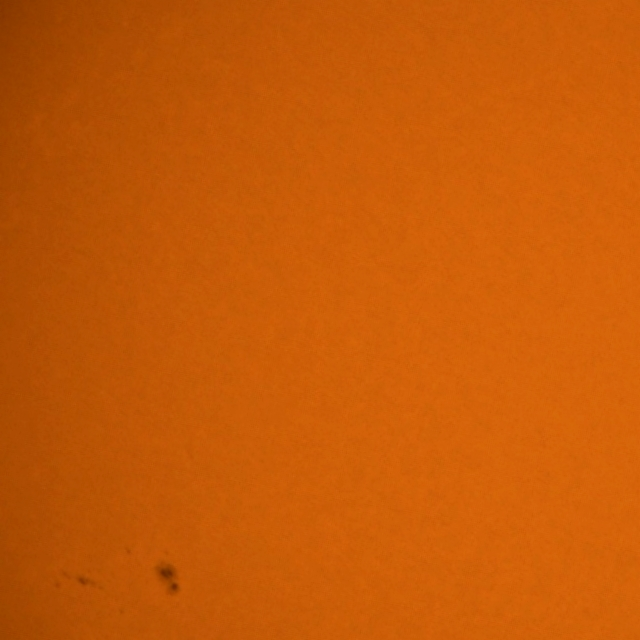sunspot: (153, 556, 181, 599), (61, 568, 108, 592)
